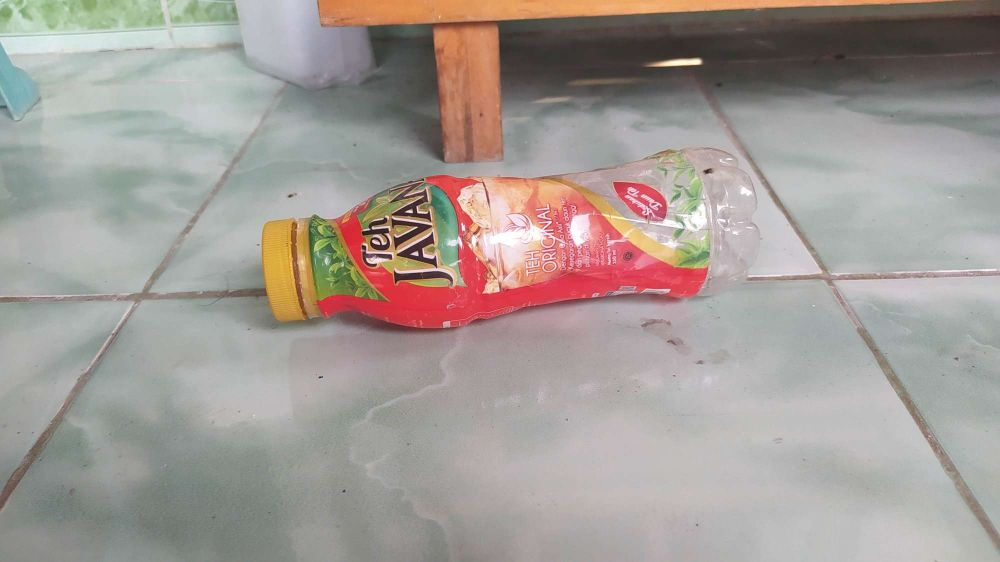botol: (217, 153, 783, 336)
